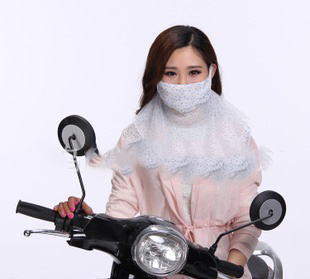face_mask: (157, 45, 208, 111)
